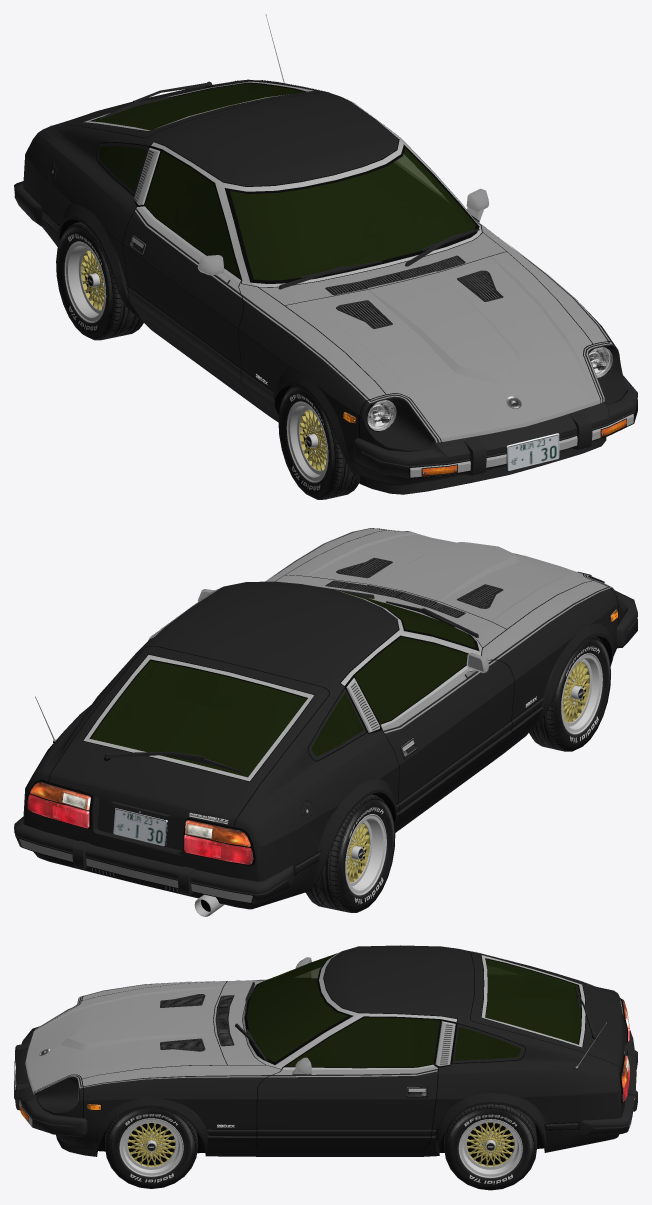
The picture shows the model from 3 angles, top to bottom: view 1: azimuth 30°, elevation 25°; view 2: azimuth 150°, elevation 25°; view 3: azimuth 270°, elevation 25°; orthographic projection. The views are drawn at different scales.
Parts seen in each view (by area): view 1: body, wheel-back-right, wheel-front-right; view 2: body, wheel-back-right, wheel-front-right; view 3: body, wheel-back-left, wheel-front-left.
Boxes of the visible parts, left/top/right/bottom form: body: left=14, top=14, right=637, bottom=494; wheel-back-right: left=56, top=222, right=143, bottom=340; wheel-front-right: left=278, top=385, right=358, bottom=499; body: left=14, top=528, right=637, bottom=916; wheel-back-right: left=305, top=795, right=395, bottom=912; wheel-front-right: left=529, top=636, right=610, bottom=751; body: left=14, top=945, right=637, bottom=1178; wheel-back-left: left=444, top=1105, right=537, bottom=1190; wheel-front-left: left=105, top=1108, right=197, bottom=1188.
Bounding box in the file's own units: 1.86 × 1.31 × 4.47.
Materials: 24 (16 with a texture image).
